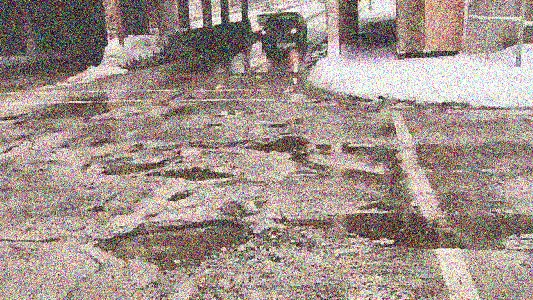pothole: (95, 217, 257, 271), (339, 208, 533, 252), (81, 152, 180, 179), (245, 131, 311, 154), (149, 165, 237, 181)
